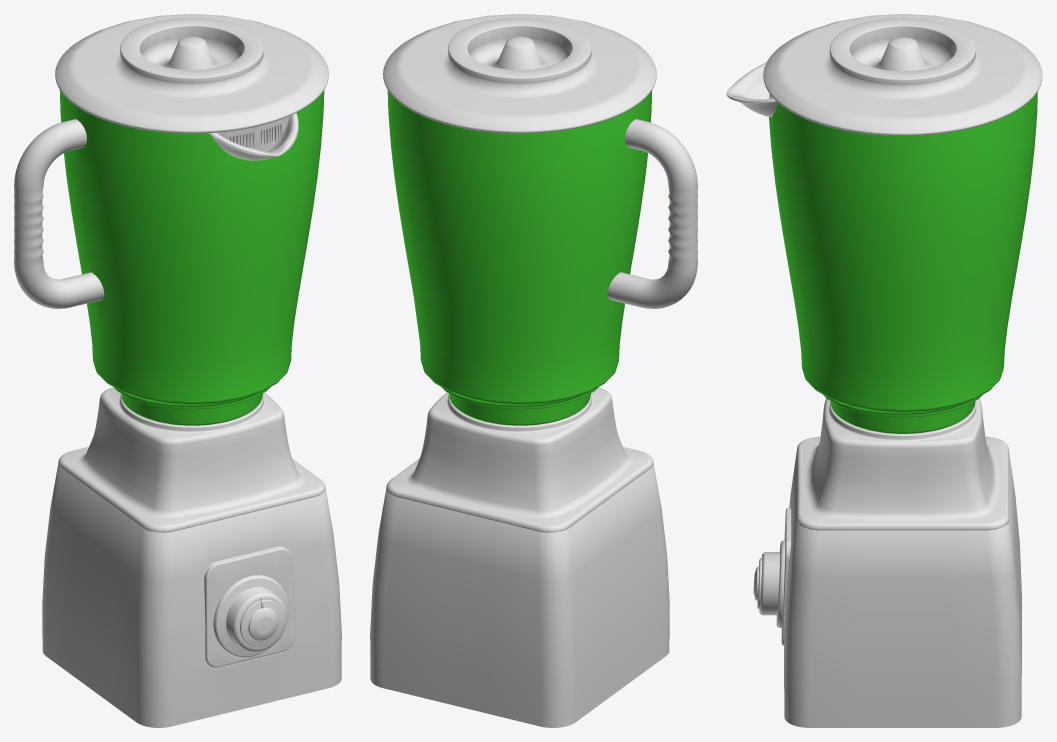
The model's file is blender2mats.fbx.
3 renders of one model, left to right at view 1: azimuth 30°, elevation 25°; view 2: azimuth 150°, elevation 25°; view 3: azimuth 270°, elevation 25°, orthographic. The views are drawn at different scales.
Parts seen in each view (by area): view 1: blender; view 2: blender; view 3: blender.
Part boxes in pixels (x1=…): blender: x1=14, y1=14, x2=341, y2=727; blender: x1=370, y1=14, x2=697, y2=727; blender: x1=726, y1=14, x2=1042, y2=727.
Size of the model in its own units: 0.2388 by 0.4843 by 0.2177.
